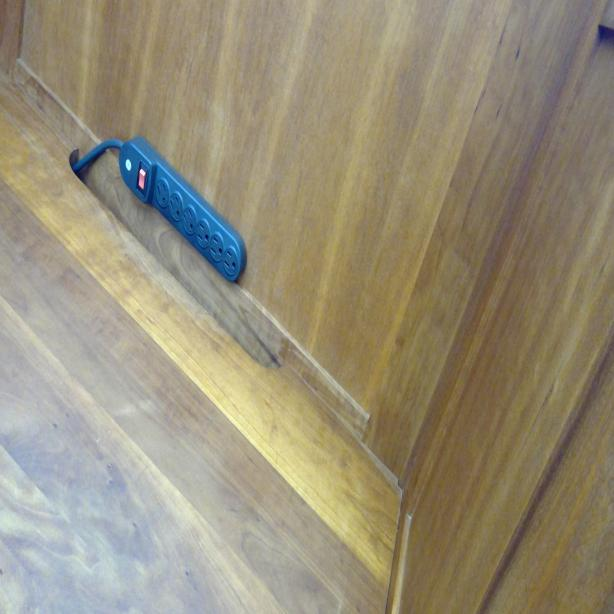typeb: (224, 244, 238, 277), (170, 189, 183, 220), (155, 178, 168, 208), (184, 202, 196, 234), (196, 218, 209, 244), (210, 232, 223, 258)
